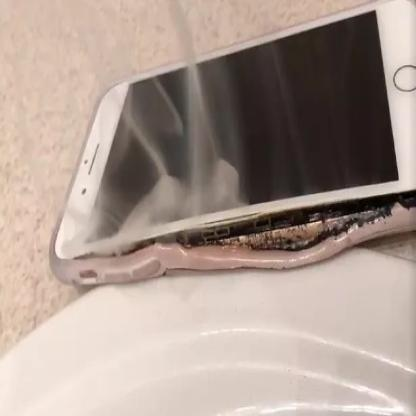smoke: (44, 0, 267, 302)
